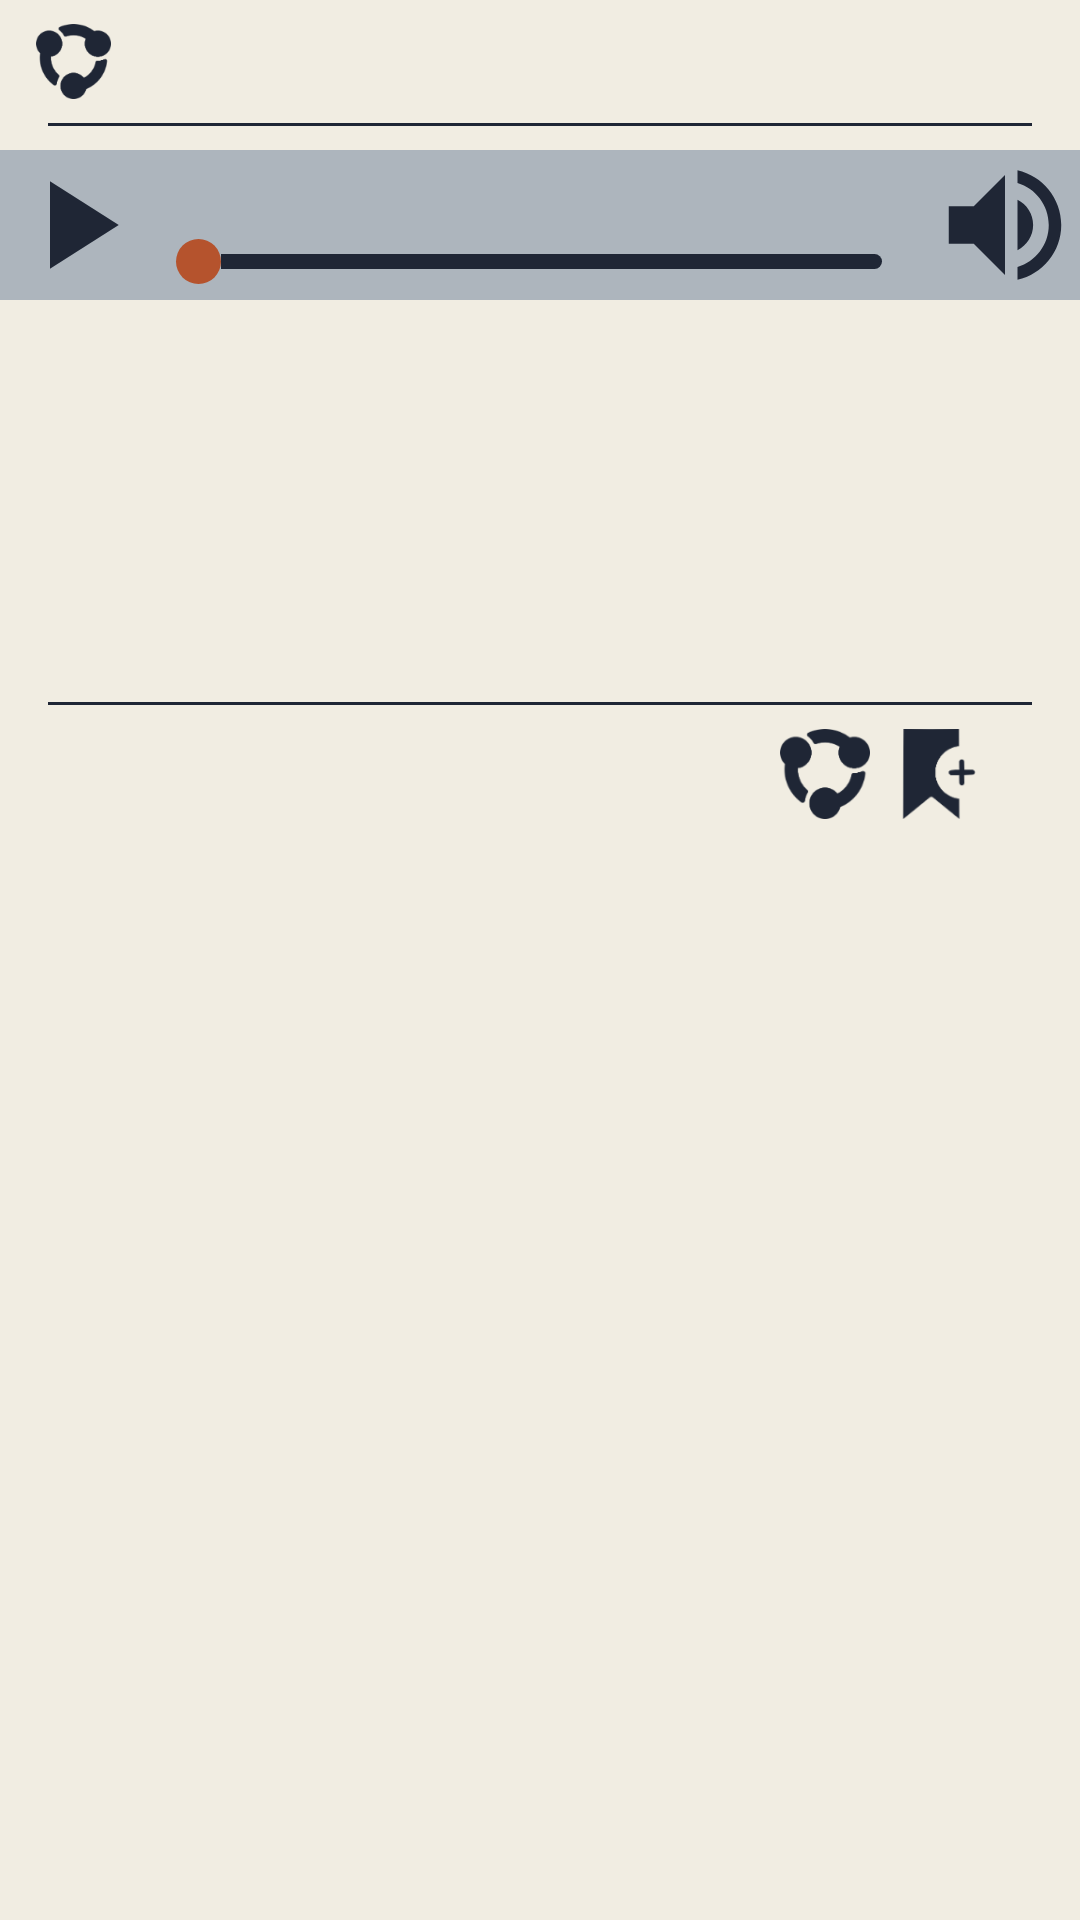

Icons on this 1080w x 1920h Android screen, each with its box as (x1, y1, x2, y2):
Bookmark Post: (902, 729, 976, 819)
play arrow: (50, 181, 118, 269)
volume up: (948, 170, 1062, 280)
